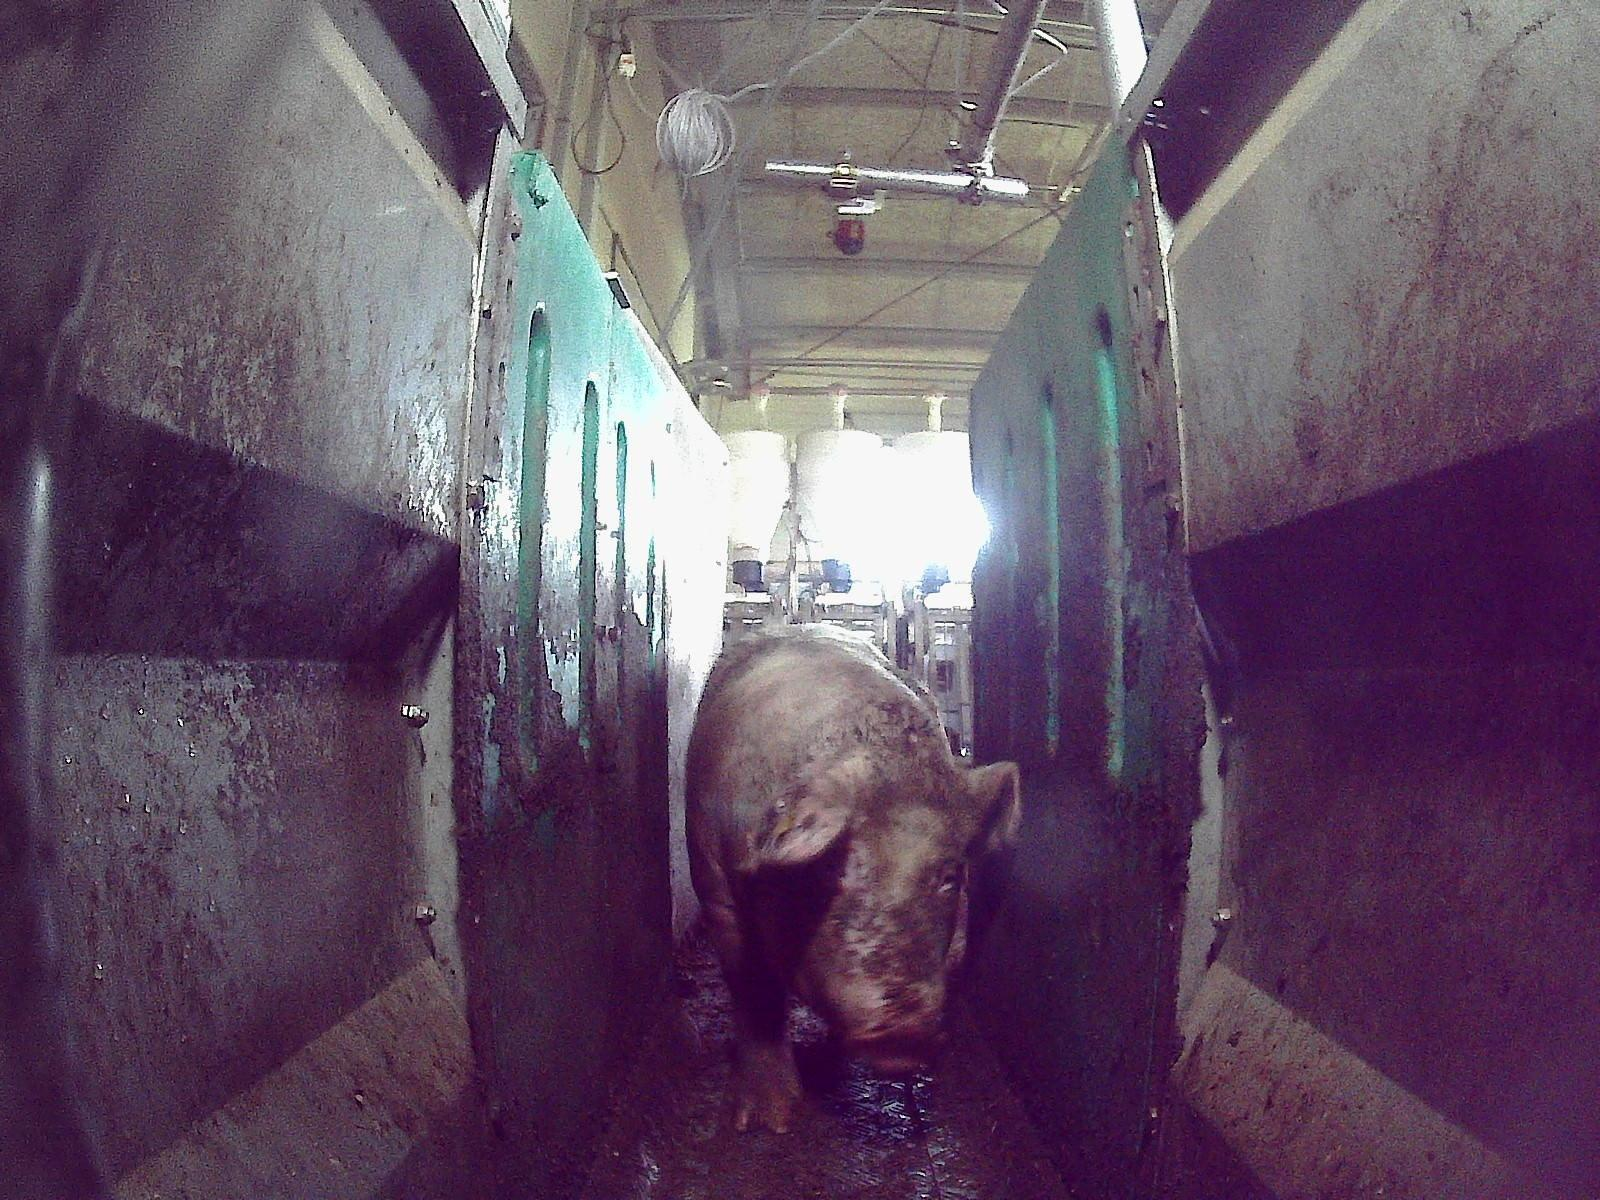Face: (753, 750, 971, 1075)
